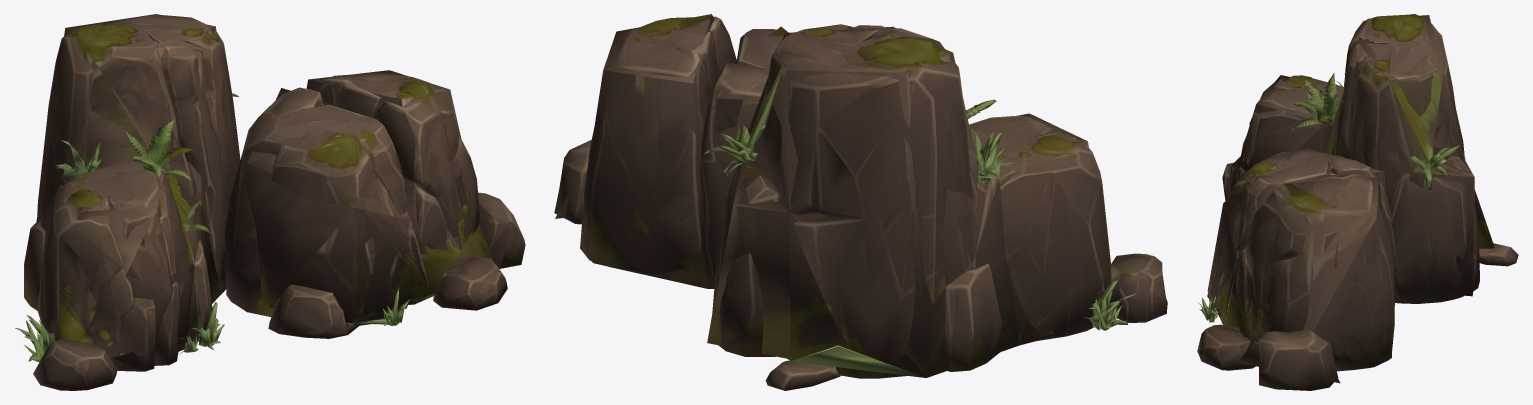
File: JGH_BoulderCluster_B.fbx
3 views of the same model, side by side, from view 1: azimuth 30°, elevation 25°; view 2: azimuth 150°, elevation 25°; view 3: azimuth 270°, elevation 25° (orthographic). The views are drawn at different scales.
Visible parts, largest first — view 1: JGH_BoulderCluster_B, JGH_BoulderCluster_B_far; view 2: JGH_BoulderCluster_B, JGH_BoulderCluster_B_far; view 3: JGH_BoulderCluster_B, JGH_BoulderCluster_B_far.
Part boxes in pixels (box(x1,y1,x2,y2)): JGH_BoulderCluster_B: box(15, 14, 525, 390); JGH_BoulderCluster_B_far: box(20, 14, 512, 368); JGH_BoulderCluster_B: box(554, 16, 1167, 390); JGH_BoulderCluster_B_far: box(555, 14, 1160, 377); JGH_BoulderCluster_B: box(1197, 14, 1518, 390); JGH_BoulderCluster_B_far: box(1202, 15, 1494, 383).
Size of the model in its own units: 380 by 188 by 246.
2 materials, 2 textured.
